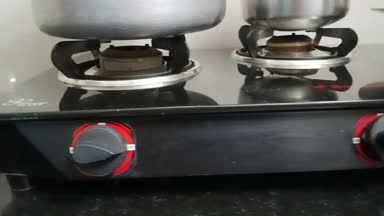flame_gas_off: (33, 26, 202, 192)
